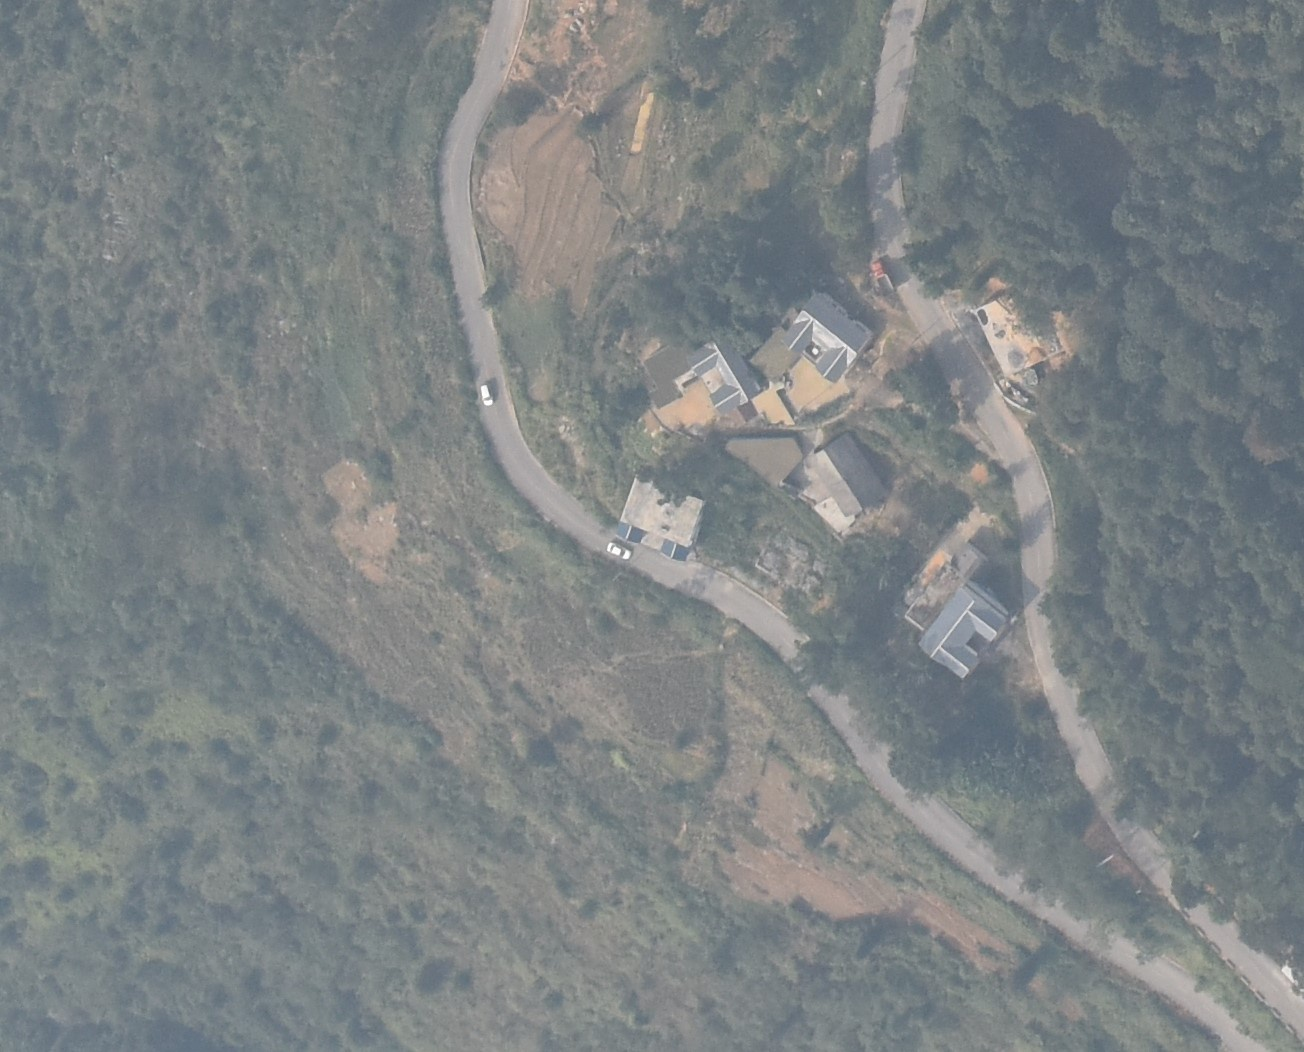building: (907, 543, 1011, 682), (784, 292, 874, 381), (616, 475, 705, 563), (977, 291, 1065, 371), (813, 431, 886, 517), (688, 338, 759, 411), (641, 341, 697, 408)
vehicle: (872, 260, 896, 296), (606, 541, 632, 560), (480, 384, 494, 406)
